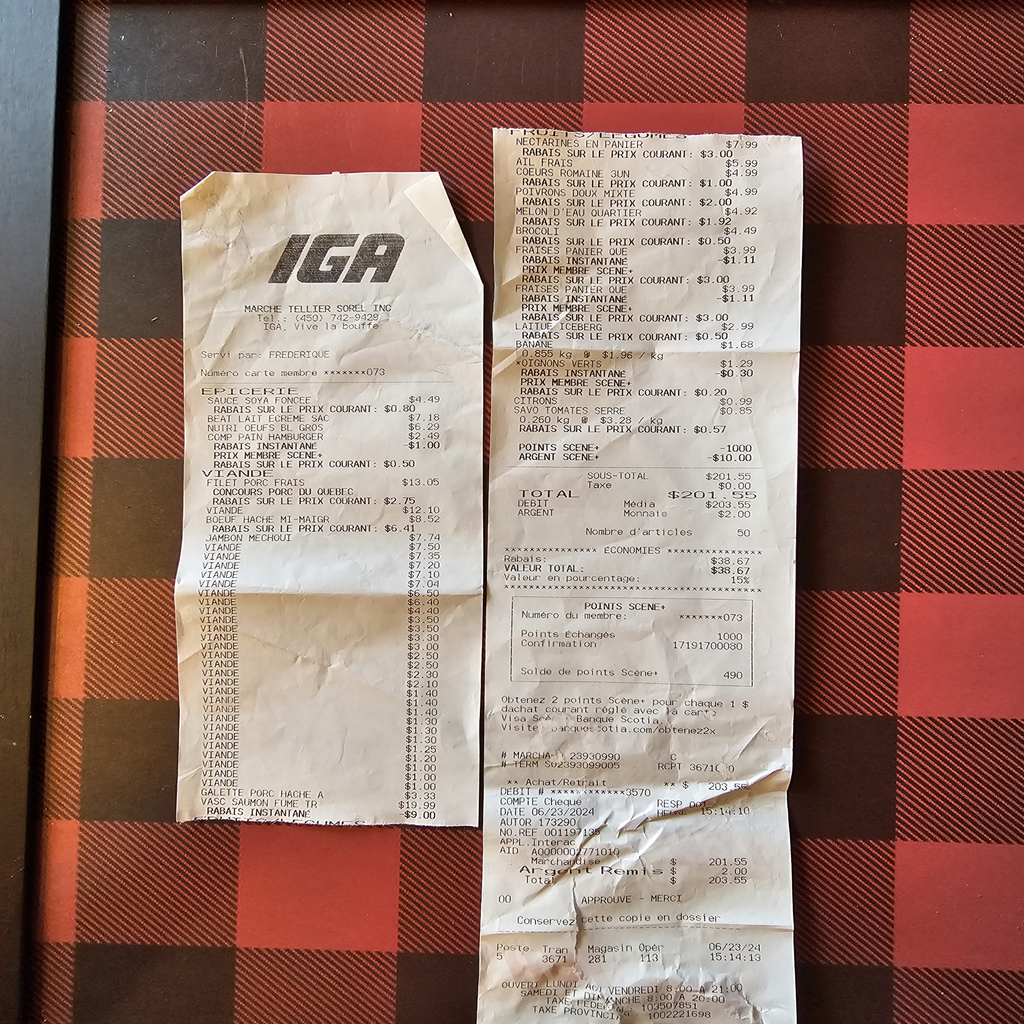recipt: (478, 124, 802, 1022), (174, 166, 485, 827)
